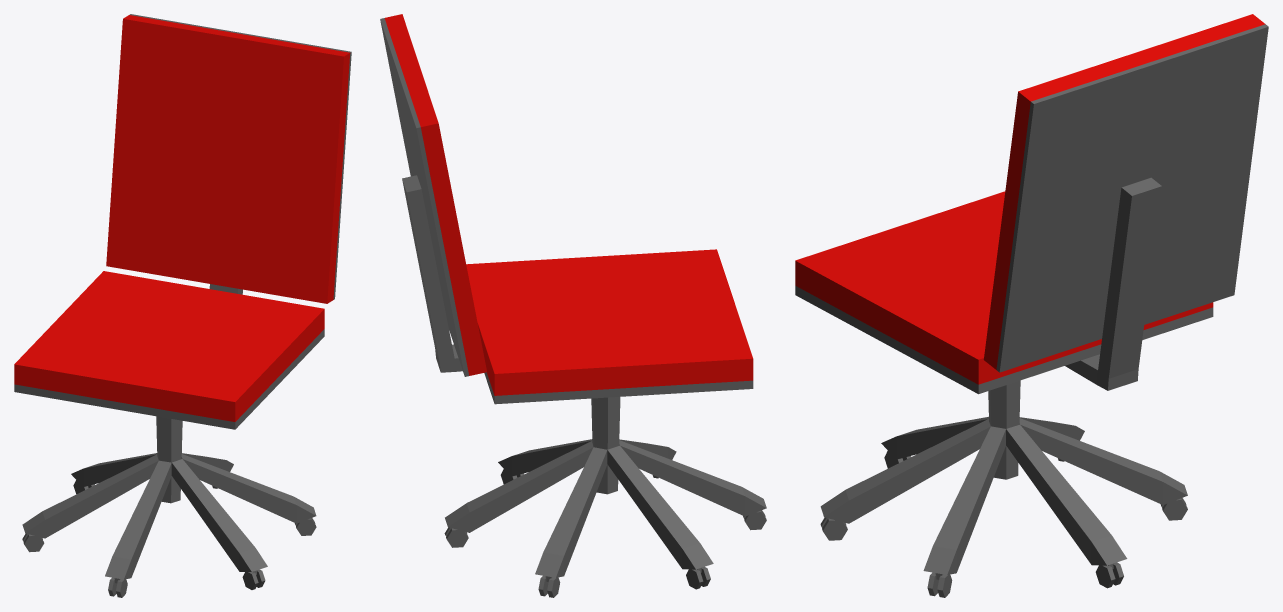
The model's file is RotaryChair.fbx.
3 renders of one model, left to right at view 1: azimuth 30°, elevation 25°; view 2: azimuth 150°, elevation 25°; view 3: azimuth 270°, elevation 25°, orthographic. The views are drawn at different scales.
Parts seen in each view (by area): view 1: Chair; view 2: Chair; view 3: Chair.
Boxes of the visible parts, x1,y1,x2,y2 form: Chair: [14, 14, 351, 597]; Chair: [380, 14, 766, 597]; Chair: [795, 14, 1268, 597].
Bounding box in the file's own units: 82.11 × 101 × 79.49.
